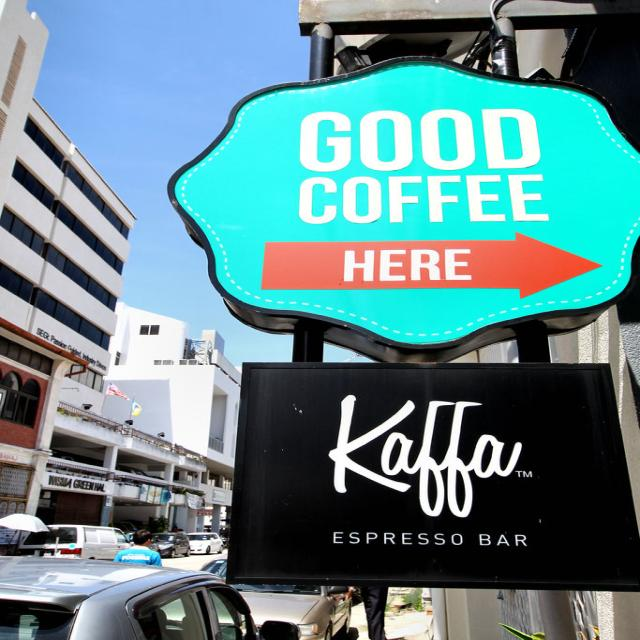car: (0, 554, 300, 639), (176, 549, 357, 639), (11, 517, 128, 559), (183, 532, 228, 558)
